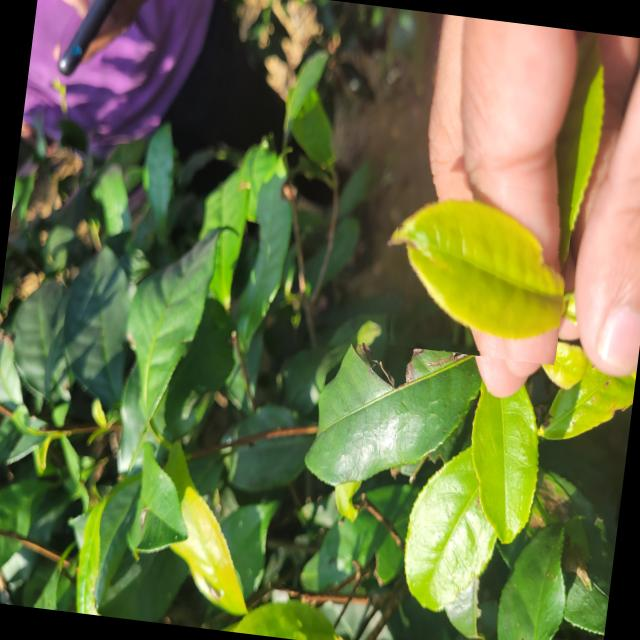Catagory A(1-2 days): (381, 166, 576, 364)
